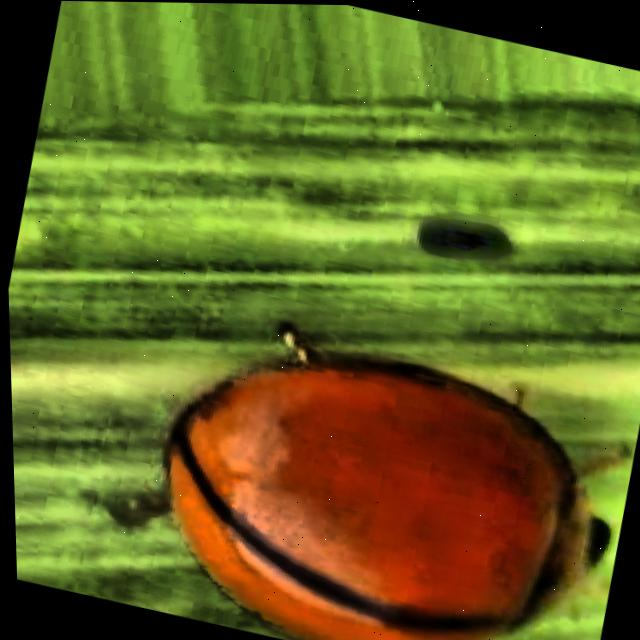Ladybug: (30, 240, 640, 640)
